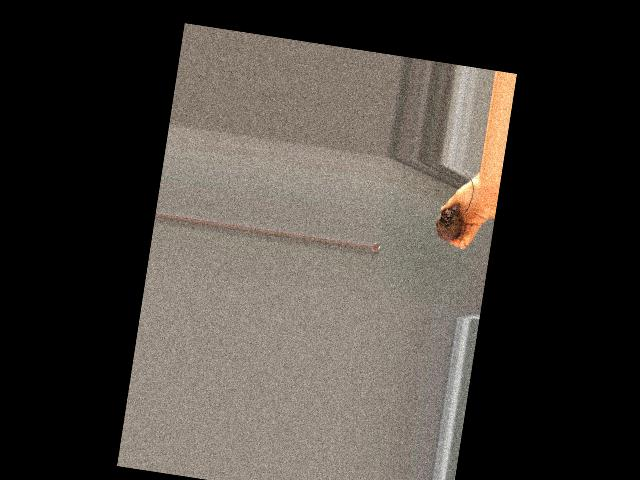beet: (433, 171, 476, 252)
